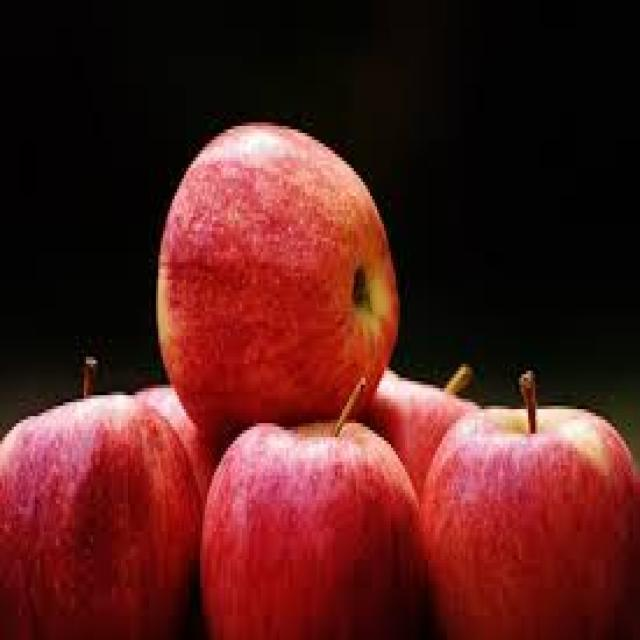Apple: (154, 119, 400, 448), (198, 374, 424, 637), (419, 367, 638, 637), (0, 388, 202, 636)
